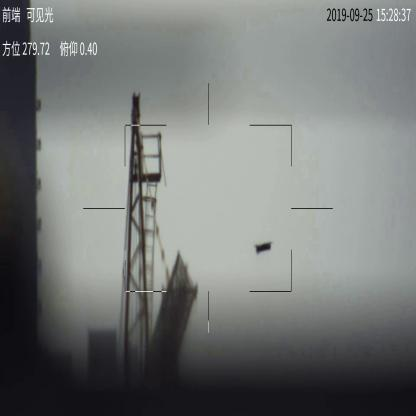uav: (256, 243, 272, 254)
